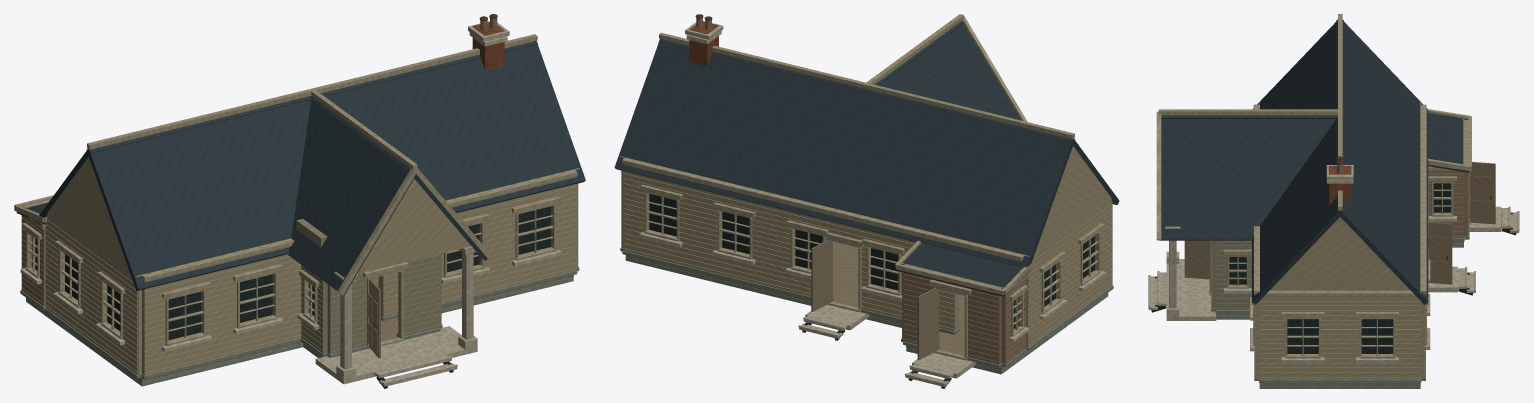
The picture shows the model from 3 angles, left to right: view 1: azimuth 30°, elevation 25°; view 2: azimuth 150°, elevation 25°; view 3: azimuth 270°, elevation 25°; orthographic projection. The views are drawn at different scales.
Visible parts, largest first — view 1: A011-14_11_Roof_Portico_Cross_Gable, A011-14_02_Clapboard, A011-14_04_Architectural_Trim, A011-14_03_Window_Door_Frames, A011-14_01_Wall_Shell, A011-14_12_Roof_Edges, A011-14_06_Glazing, A011-14_01_Portico_Pediment, A011-14_07_Floors, A011-14_10_Porch_Supports, A011-14_00_Foundation, A011-14_13_Chimneys (+2 smaller); view 2: A011-14_11_Roof_Portico_Cross_Gable, A011-14_02_Clapboard, A011-14_04_Architectural_Trim, A011-14_03_Window_Door_Frames, A011-14_12_Roof_Edges, A011-14_01_Wall_Shell, A011-14_07_Floors, A011-14_06_Glazing, A011-14_11_Roof_Utility, A011-14_00_Foundation, A011-14_05_Door_Leaf_02, A011-14_05_Door_Leaf_00 (+2 smaller); view 3: A011-14_11_Roof_Portico_Cross_Gable, A011-14_02_Clapboard, A011-14_01_Wall_Shell, A011-14_04_Architectural_Trim, A011-14_12_Roof_Edges, A011-14_07_Floors, A011-14_03_Window_Door_Frames, A011-14_06_Glazing, A011-14_11_Roof_Utility, A011-14_05_Door_Leaf_02, A011-14_05_Door_Leaf_00, A011-14_08_Stairs (+4 smaller).
Boxes of the visible parts, box(x1,y1,x2,y2) form: A011-14_11_Roof_Portico_Cross_Gable: box(39, 41, 585, 295); A011-14_02_Clapboard: box(21, 176, 578, 375); A011-14_04_Architectural_Trim: box(20, 168, 579, 379); A011-14_03_Window_Door_Frames: box(25, 203, 556, 349); A011-14_01_Wall_Shell: box(28, 157, 577, 375); A011-14_12_Roof_Edges: box(14, 34, 537, 295); A011-14_06_Glazing: box(32, 206, 550, 339); A011-14_01_Portico_Pediment: box(357, 178, 470, 273); A011-14_07_Floors: box(44, 275, 573, 384); A011-14_10_Porch_Supports: box(334, 246, 477, 379); A011-14_00_Foundation: box(26, 277, 573, 386); A011-14_13_Chimneys: box(468, 14, 509, 70); A011-14_11_Roof_Portico_Cross_Gable: box(614, 21, 1119, 267); A011-14_02_Clapboard: box(621, 164, 1112, 364); A011-14_04_Architectural_Trim: box(620, 156, 1113, 367); A011-14_03_Window_Door_Frames: box(644, 191, 1100, 360); A011-14_12_Roof_Edges: box(659, 14, 1074, 295); A011-14_01_Wall_Shell: box(622, 146, 1111, 363); A011-14_07_Floors: box(625, 241, 1027, 378); A011-14_06_Glazing: box(649, 194, 1094, 328); A011-14_11_Roof_Utility: box(897, 243, 1029, 296); A011-14_00_Foundation: box(625, 257, 1108, 374); A011-14_05_Door_Leaf_02: box(917, 288, 939, 359); A011-14_05_Door_Leaf_00: box(811, 240, 832, 311); A011-14_11_Roof_Portico_Cross_Gable: box(1159, 19, 1428, 304); A011-14_02_Clapboard: box(1211, 171, 1468, 379); A011-14_01_Wall_Shell: box(1212, 172, 1467, 378); A011-14_04_Architectural_Trim: box(1211, 102, 1469, 382); A011-14_12_Roof_Edges: box(1156, 14, 1471, 240); A011-14_07_Floors: box(1166, 206, 1501, 385); A011-14_03_Window_Door_Frames: box(1209, 171, 1470, 358); A011-14_06_Glazing: box(1229, 183, 1450, 353); A011-14_11_Roof_Utility: box(1428, 113, 1469, 172); A011-14_05_Door_Leaf_02: box(1470, 161, 1495, 224); A011-14_05_Door_Leaf_00: box(1428, 222, 1452, 284); A011-14_08_Stairs: box(1148, 206, 1519, 309).
Bounding box in the file's own units: 14.82 × 7.62 × 11.98.
13 materials, 13 textured.
